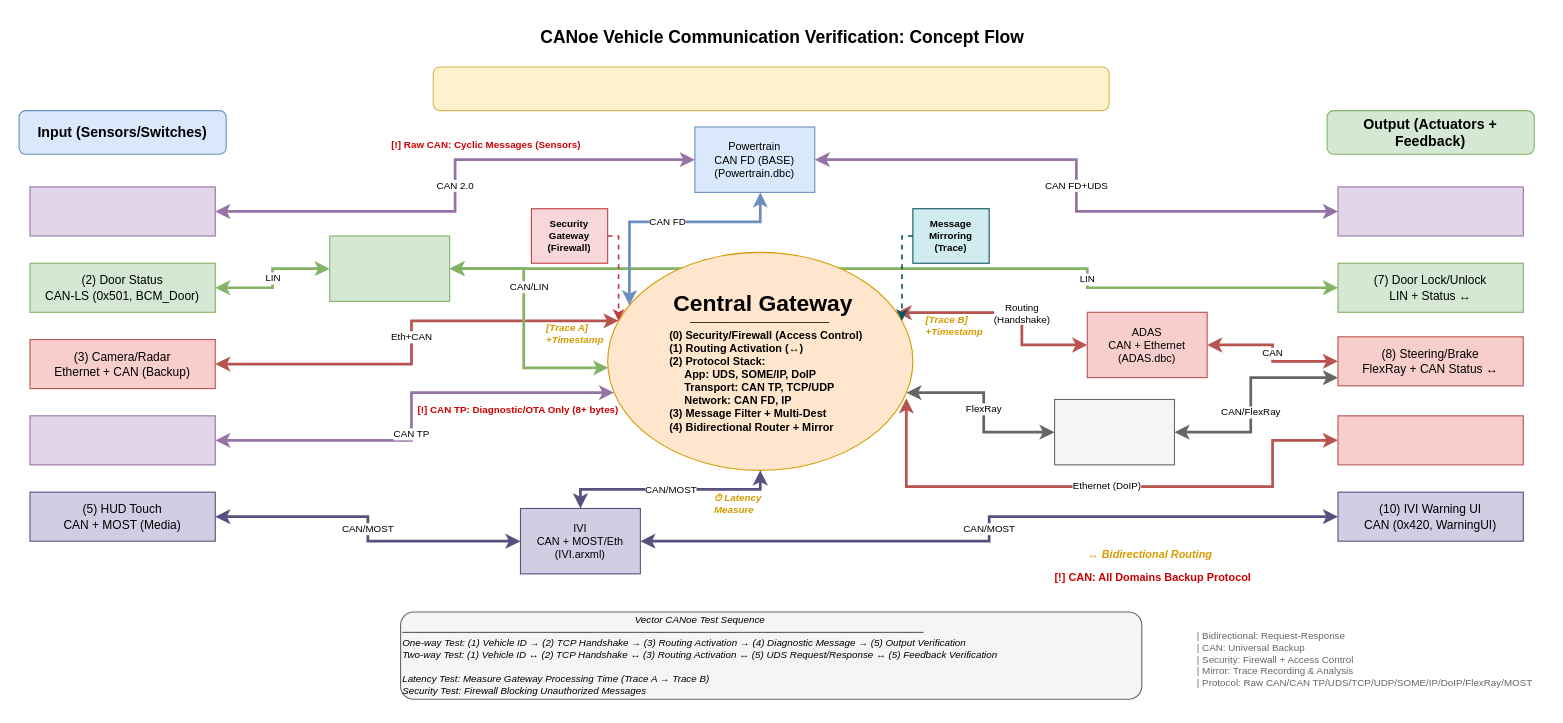
Image size: 1563x723. Some labels were removed from this diagram. Each missing label, with the box of its shape:
(1) Window Motor Fault CAN-LS (0x500, BCM_Fault): (29, 186, 215, 236)
(4) Battery Sensor CAN → DoIP (Diag): (29, 415, 215, 465)
(6) Engine Accel EMS (0x234 + UDS) ↔: (1337, 186, 1523, 236)
(9) OTA Update DoIP (Request-Response) ↔: (1337, 415, 1523, 465)
Body CAN FD + LIN (Body.dbc/.ldf): (329, 235, 450, 301)
Chassis CAN + FlexRay (Chassis.fibex): (1053, 398, 1174, 465)
Control (Network + Bidirectional Gateway + Security): (432, 66, 1109, 111)
